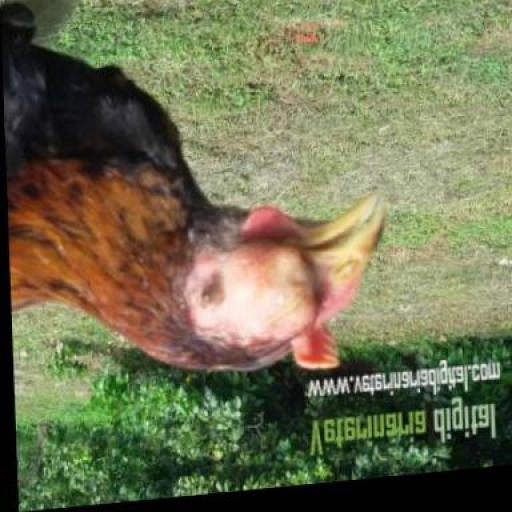disease: (137, 229, 324, 369)
